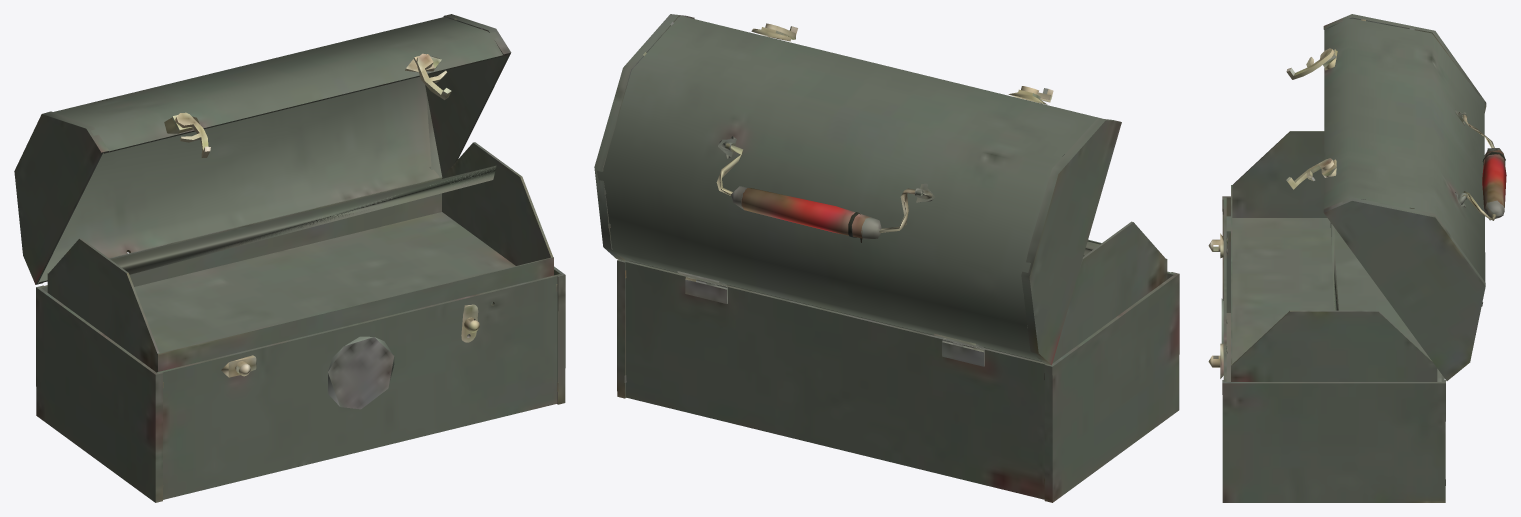
File: toolbox.glb
3 renders of one model, left to right at view 1: azimuth 30°, elevation 25°; view 2: azimuth 150°, elevation 25°; view 3: azimuth 270°, elevation 25°, orthographic. The views are drawn at different scales.
Parts seen in each view (by area): view 1: Cylinder.015, metal_toolbox, metal_toolbox_tray, metal_toolbox_handle_latch_r, metal_toolbox_handle_latch_l; view 2: Cylinder.015, metal_toolbox, metal_toolbox_tray, metal_toolbox_handle; view 3: Cylinder.015, metal_toolbox_tray, metal_toolbox, metal_toolbox_handle, metal_toolbox_handle_latch_l, metal_toolbox_handle_latch_r.
Boxes of the visible parts, x1,y1,x2,y2 form: Cylinder.015: [14, 14, 511, 284]; metal_toolbox: [36, 266, 565, 502]; metal_toolbox_tray: [47, 142, 553, 372]; metal_toolbox_handle_latch_r: [416, 53, 451, 99]; metal_toolbox_handle_latch_l: [175, 112, 210, 157]; Cylinder.015: [594, 14, 1121, 365]; metal_toolbox: [617, 259, 1179, 502]; metal_toolbox_tray: [629, 221, 1167, 363]; metal_toolbox_handle: [716, 145, 915, 242]; Cylinder.015: [1321, 14, 1486, 380]; metal_toolbox_tray: [1231, 131, 1437, 381]; metal_toolbox: [1208, 196, 1445, 502]; metal_toolbox_handle: [1463, 114, 1506, 220]; metal_toolbox_handle_latch_l: [1286, 48, 1334, 79]; metal_toolbox_handle_latch_r: [1286, 158, 1333, 189].
Bounding box in the file's own units: 0.4 × 0.3047 × 0.2698.
1 material, 1 textured.
